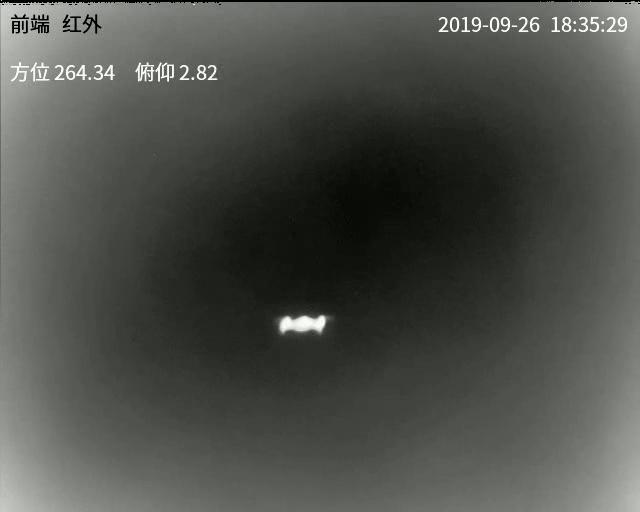DRONE: (277, 314, 328, 336)
